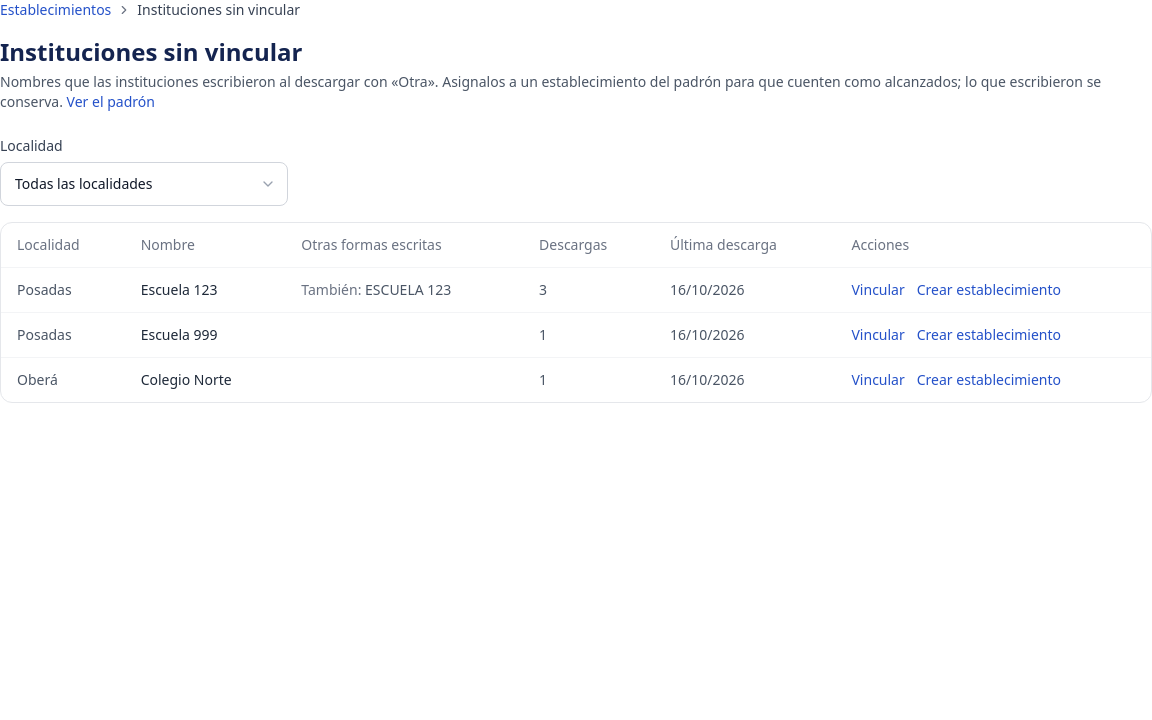
Test: SinVincularPage: vincular (criterios 4, 5 y 9) › abre el diálogo con los establecimientos ACTIVOS de la localidad del grupo, como radios en un fieldset
The width and height of the screenshot is (1152, 720).
Click the button "Vincular" in the row of "También:": (878, 290) [852,280,905,300]
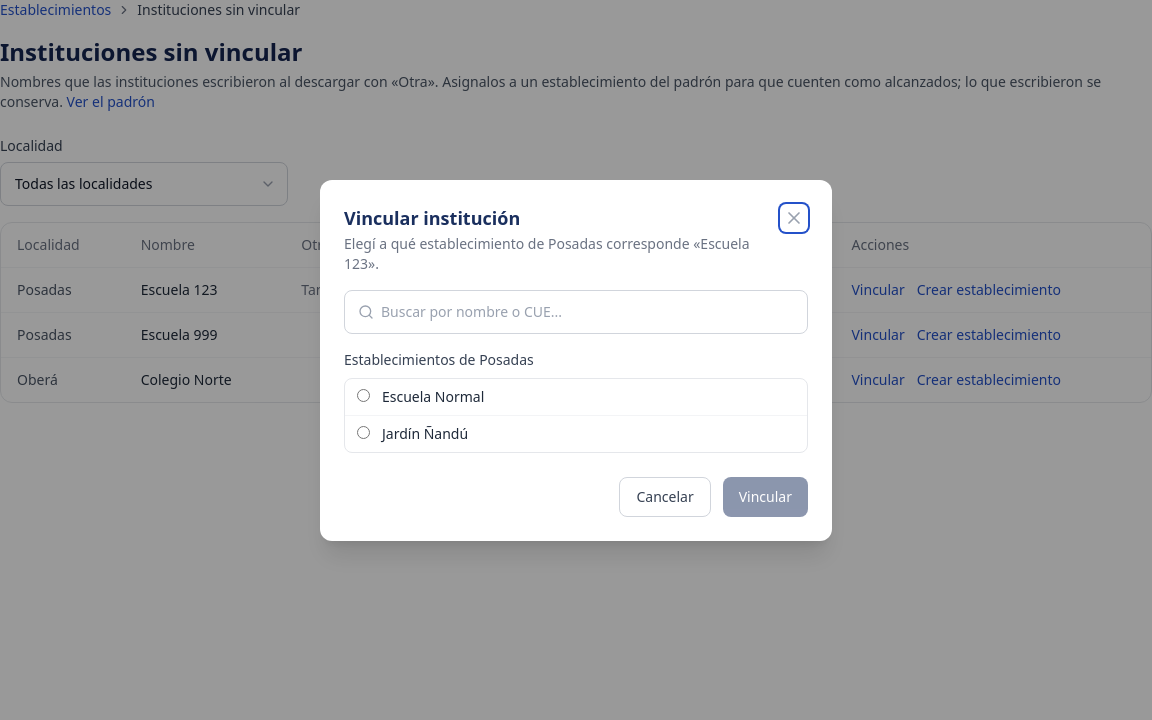
Expected: the number of radio buttons is 2, [357,388,370,402]; [357,426,370,438]
Expected: the radio button labelled "Escuela Normal" is shown, [357,388,370,402]
Expected: the radio button labelled "Jardín Ñandú" is shown, [357,426,370,438]
